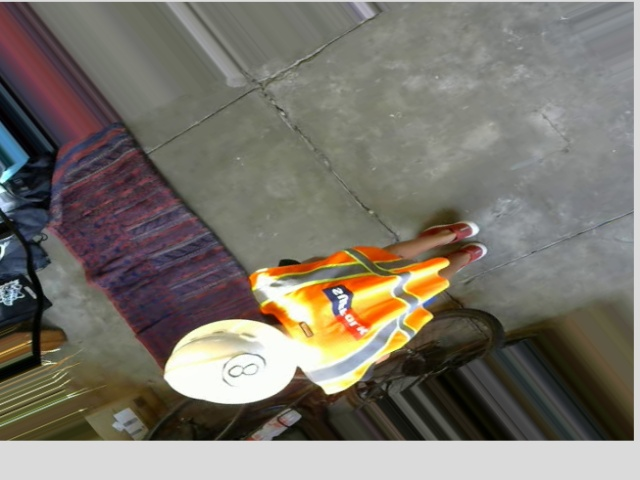eight: (210, 347, 277, 393)
